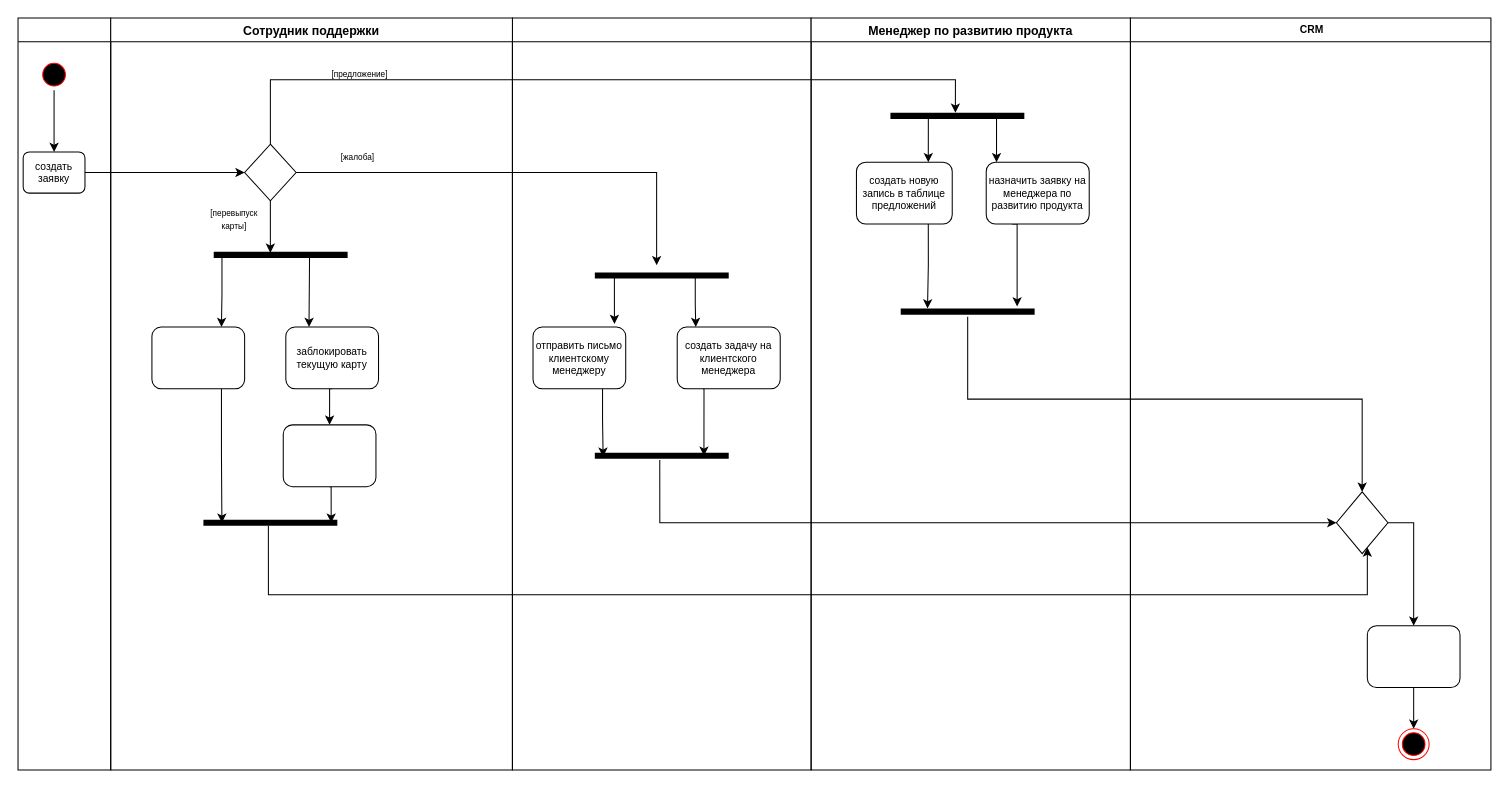
This 1509x788 diagram has some shape labels left out. Here are the shapes that lost their labels. From the top down, the box of each, then its label:
(151, 326, 245, 389): создать задачу на перевыпуск карты
(17, 17, 111, 770): Клиент
(511, 17, 811, 770): Клиентский менеджер
(282, 424, 376, 487): выслать смс об успешной блокировке карты
(1366, 625, 1460, 688): обновить статус заявки на "исполняется"
